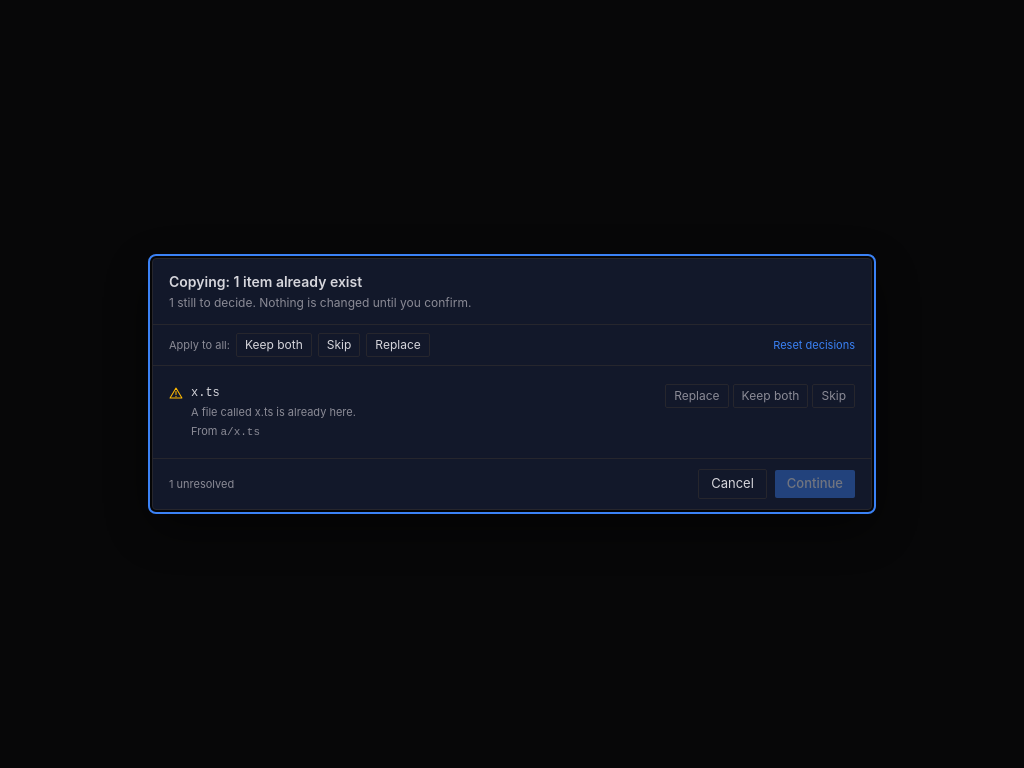
refusing to continue › enables it once every conflict has an answer
Click the button with aria-label "Skip x.ts" at (834, 396), box [812, 384, 855, 408]
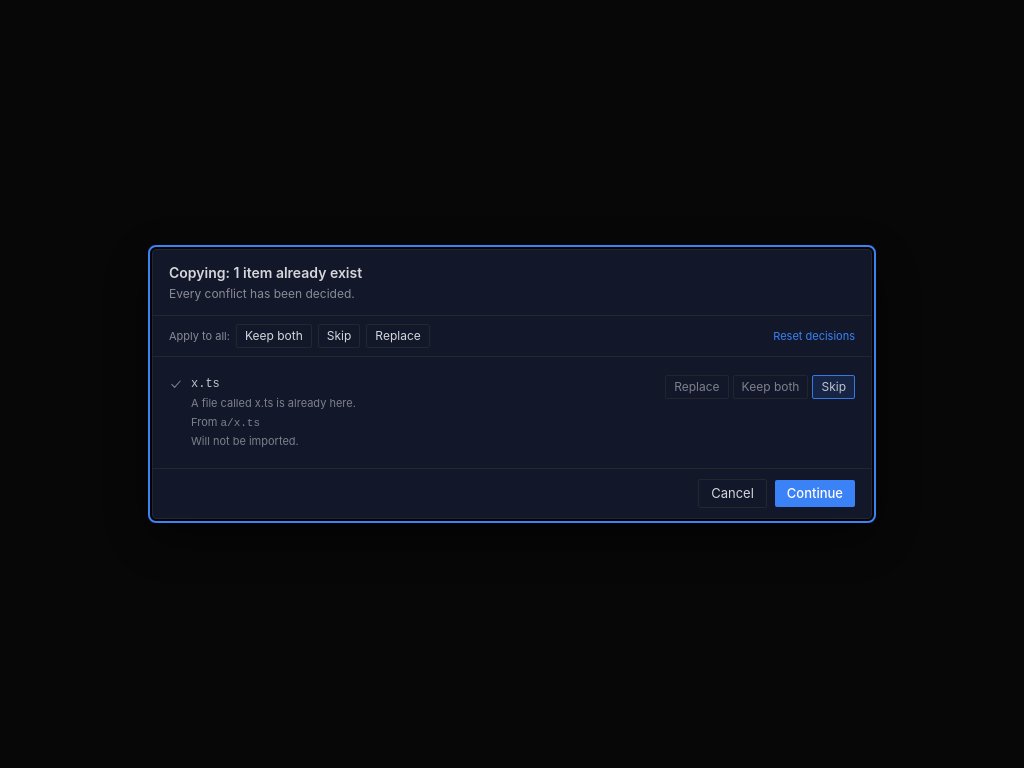
Result: the button "Continue" is enabled at [775, 480, 855, 507]
